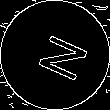N_NW: (24, 26, 86, 84)
